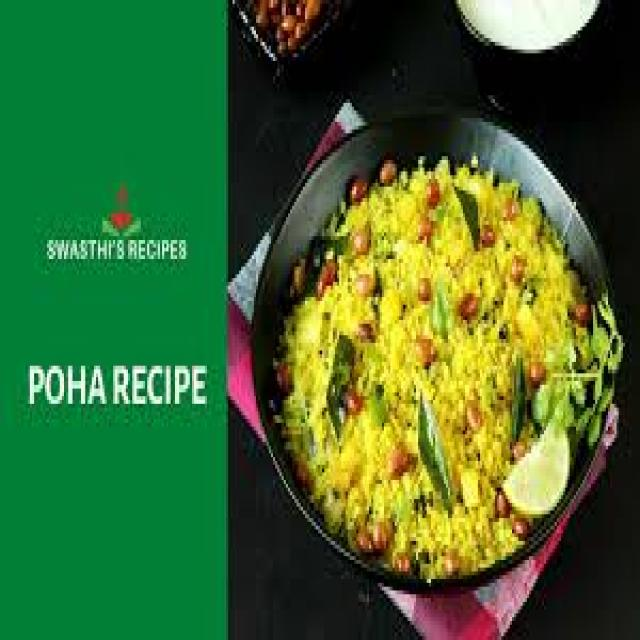POHA: (273, 166, 583, 568)
